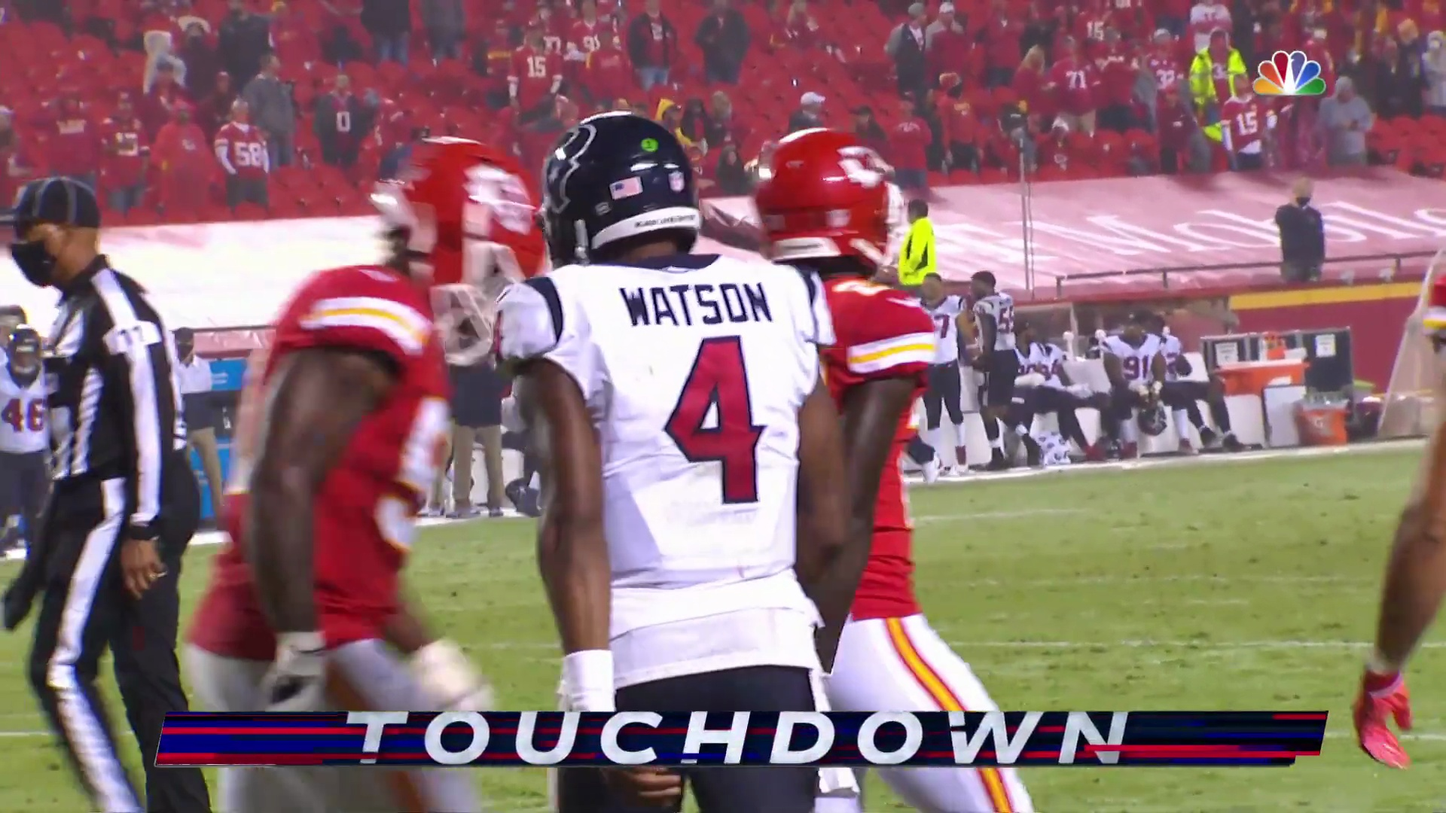Player: (488, 130, 916, 667)
